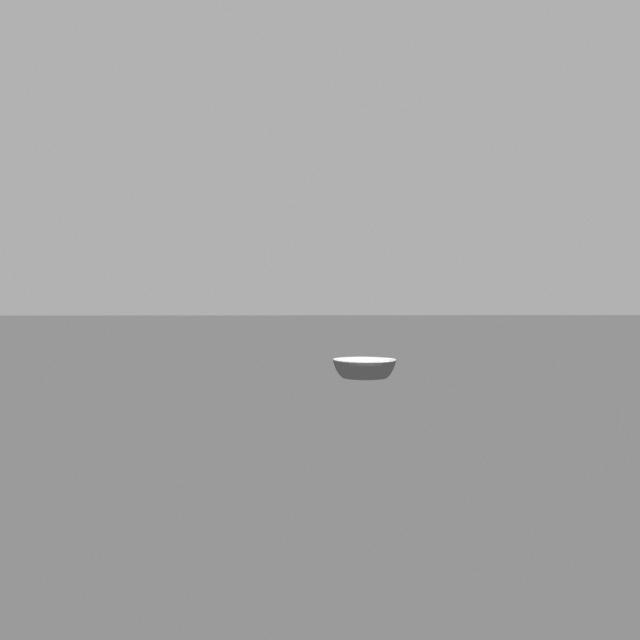bowl: (328, 338, 408, 402)
